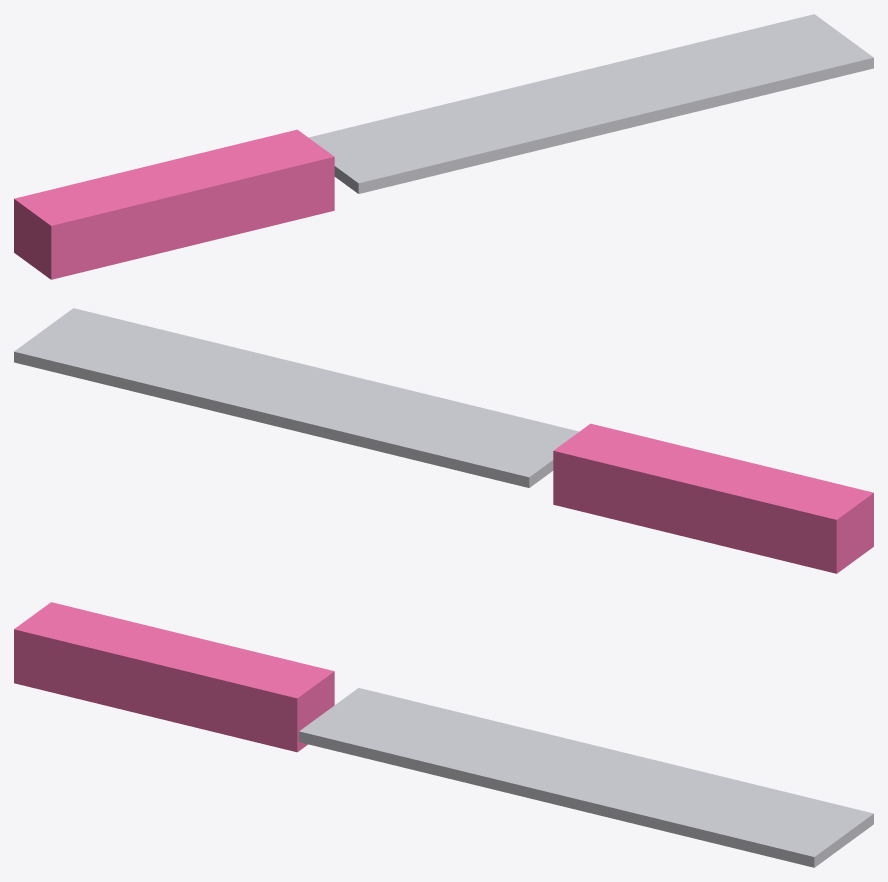
The model's file is cake_knife.glb.
3 renders of one model, top to bottom at view 1: azimuth 30°, elevation 25°; view 2: azimuth 150°, elevation 25°; view 3: azimuth 330°, elevation 25°, orthographic.
Parts seen in each view (by area): view 1: blade_knife_blade, handle_knife_handle; view 2: blade_knife_blade, handle_knife_handle; view 3: blade_knife_blade, handle_knife_handle.
Part boxes in pixels (<box>): blade_knife_blade: <box>308,14,873,193</box>; handle_knife_handle: <box>14,129,334,279</box>; blade_knife_blade: <box>14,308,579,487</box>; handle_knife_handle: <box>553,423,873,573</box>; blade_knife_blade: <box>299,688,873,867</box>; handle_knife_handle: <box>14,602,334,752</box>.
Bounding box in the file's own units: 0.315 × 0.02 × 0.04.
